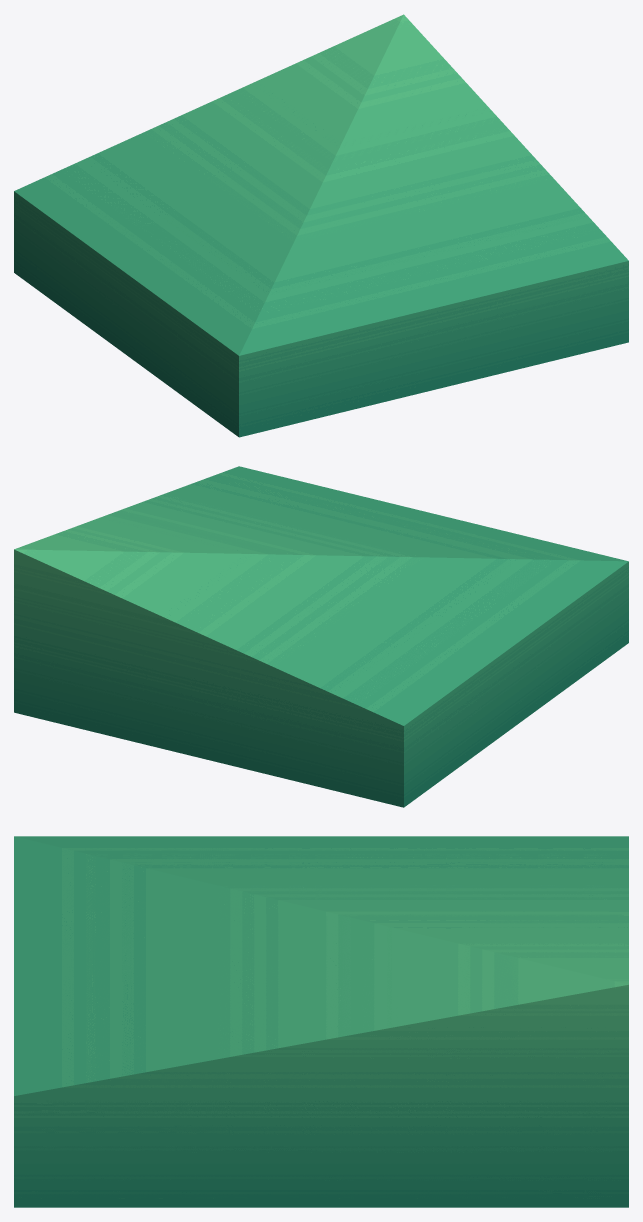
The model's file is tower-defense-kit--tile-corner-outer.glb.
The picture shows the model from 3 angles, top to bottom: view 1: azimuth 30°, elevation 25°; view 2: azimuth 150°, elevation 25°; view 3: azimuth 270°, elevation 25°; orthographic projection. The views are drawn at different scales.
Visible parts, largest first — view 1: tile-corner-outer; view 2: tile-corner-outer; view 3: tile-corner-outer.
Part boxes in pixels (x1,y1,x2,y2): tile-corner-outer: (14,14,628,437); tile-corner-outer: (14,466,628,807); tile-corner-outer: (14,836,628,1207).
Bounding box in the file's own units: 1 × 0.4 × 1.
Materials: 1 (1 with a texture image).
